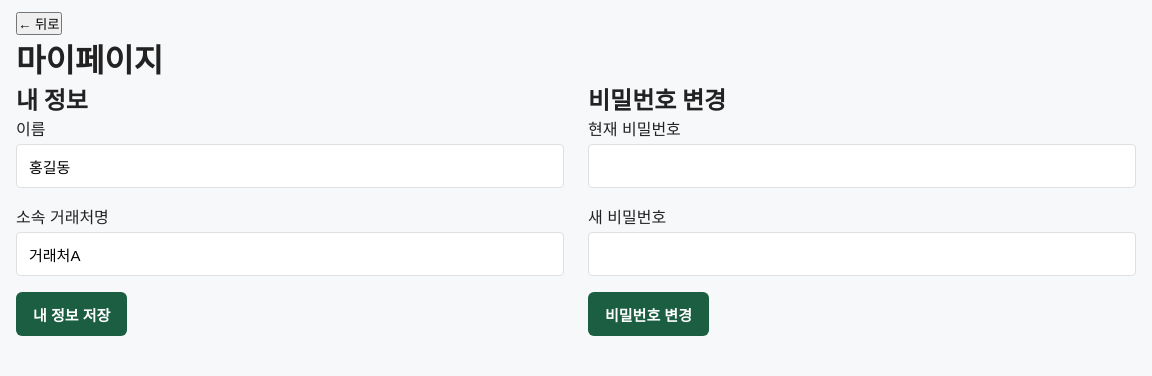
Scenario: MyPage › 비밀번호 변경 실패 시 에러 메시지가 화면에 표시된다
This screenshot has width=1152, height=376.
Check: the field labelled "이름" is shown, box [16, 144, 564, 188]
Type "wrongpass" into the password field labelled "현재 비밀번호".
click(862, 166); type("wrongpass")  # box [588, 144, 1136, 188]
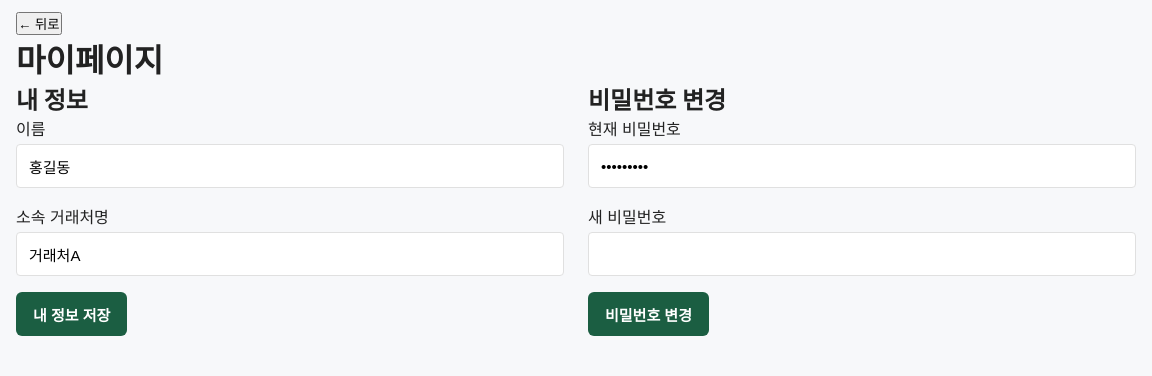
Type "newpass1" into the password field labelled "새 비밀번호".
click(862, 254); type("newpass1")  # box [588, 232, 1136, 276]
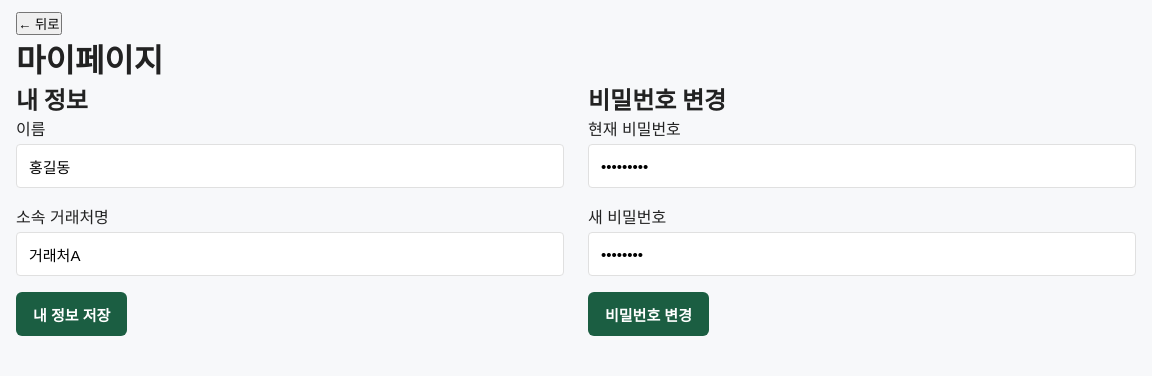
Click the button "비밀번호 변경".
click(648, 314)  # box [588, 292, 709, 336]
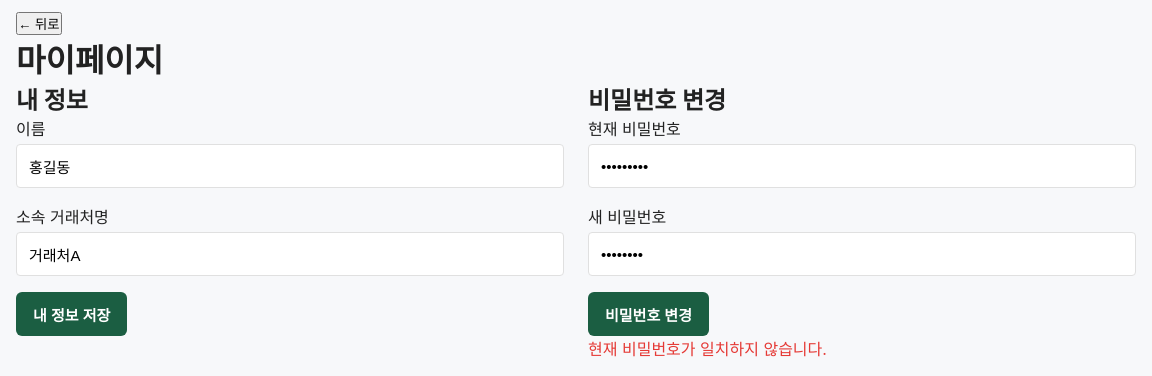
Check: the text "현재 비밀번호가 일치하지 않습니다." is shown, box [588, 339, 827, 359]
